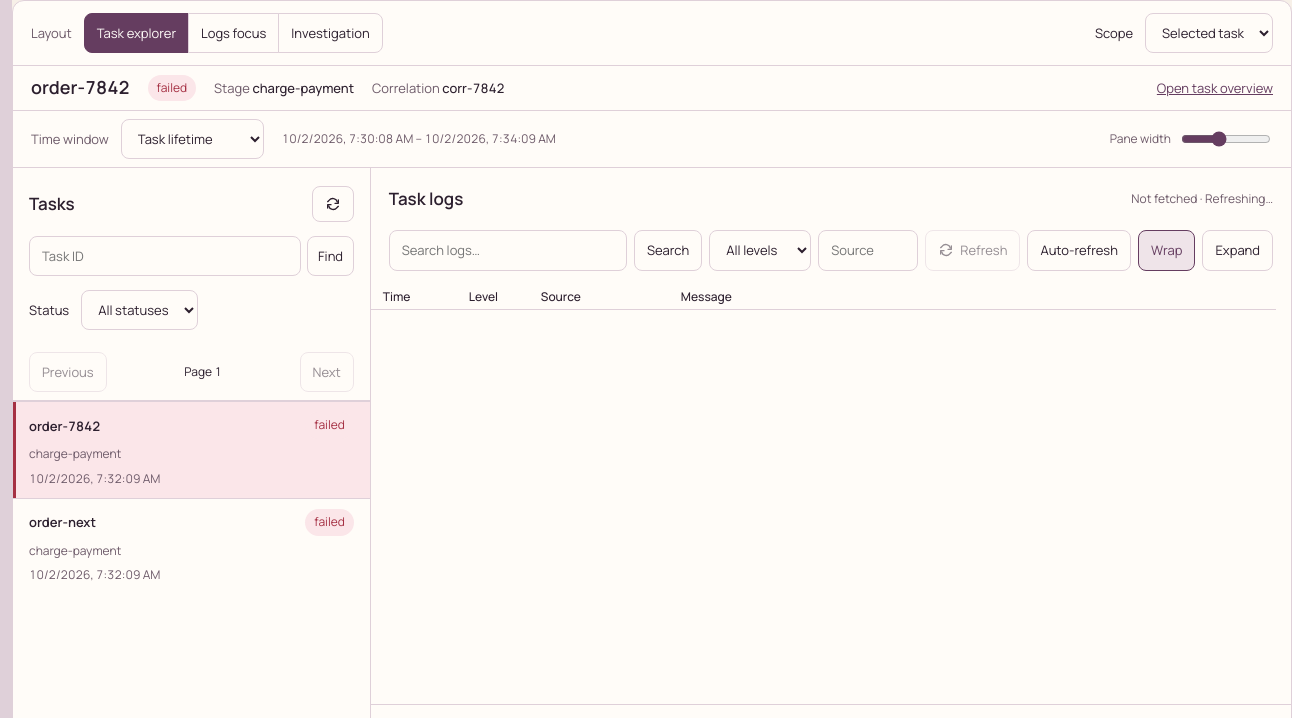
ignores late evidence belonging to the previous task
Click the button "order-next failed charge-payment 10/2/2026, 7:32:09 AM" at x=62, y=522, box [13,498,370,595]
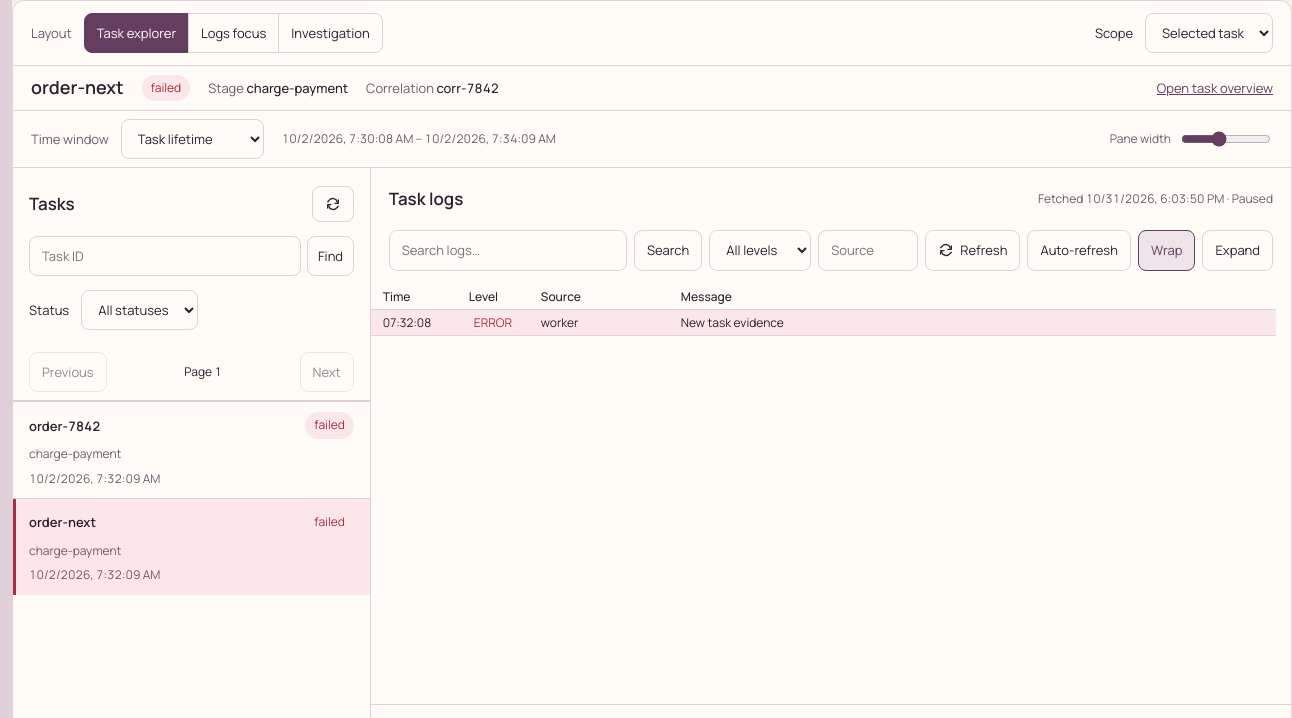
expect the text "New task evidence" is shown: met, box [669,309,1276,336]
